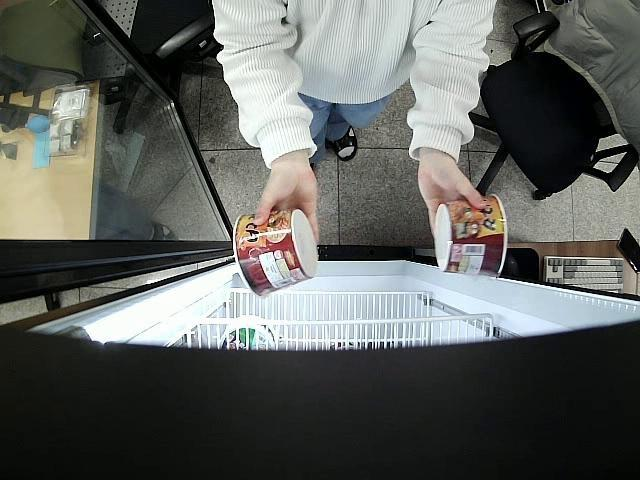05_nuguri_L: (233, 209, 320, 300), (436, 194, 507, 280)
